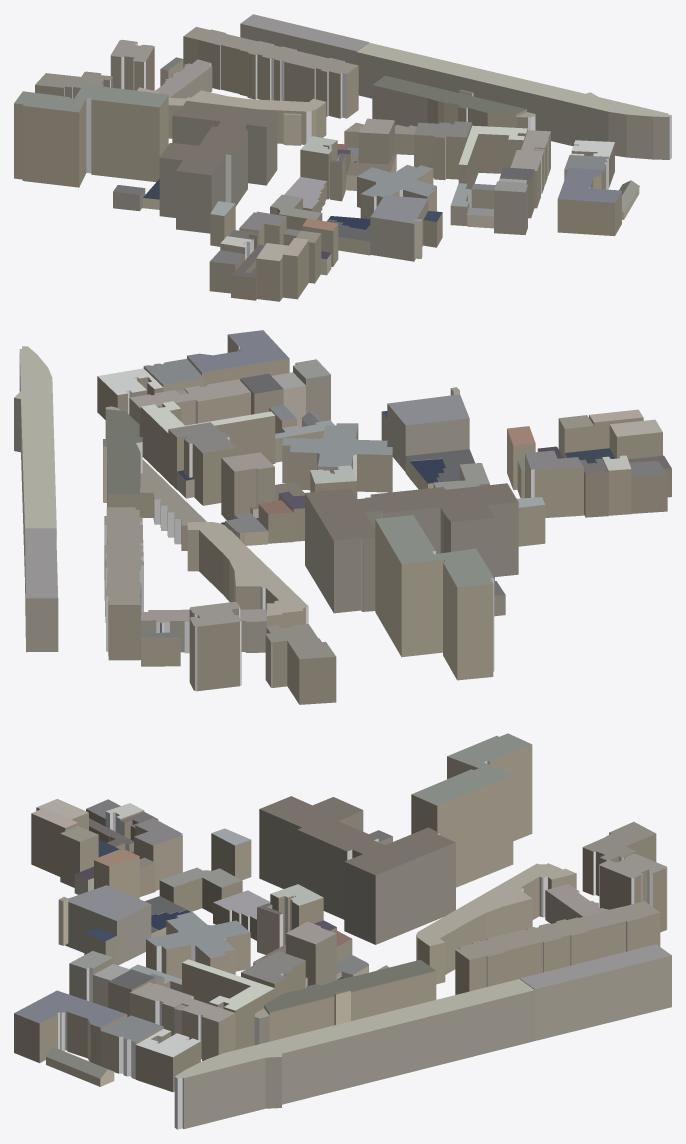
The picture shows the model from 3 angles, top to bottom: view 1: azimuth 30°, elevation 25°; view 2: azimuth 150°, elevation 25°; view 3: azimuth 270°, elevation 25°; orthographic projection. The views are drawn at different scales.
Visible parts, largest first — view 1: tuile; view 2: tuile; view 3: tuile.
Boxes of the visible parts, box(x1,y1,x2,y2) form: tuile: box(14, 14, 671, 301); tuile: box(14, 330, 671, 704); tuile: box(14, 733, 671, 1129).
Size of the model in its own units: 303 by 44.55 by 279.
